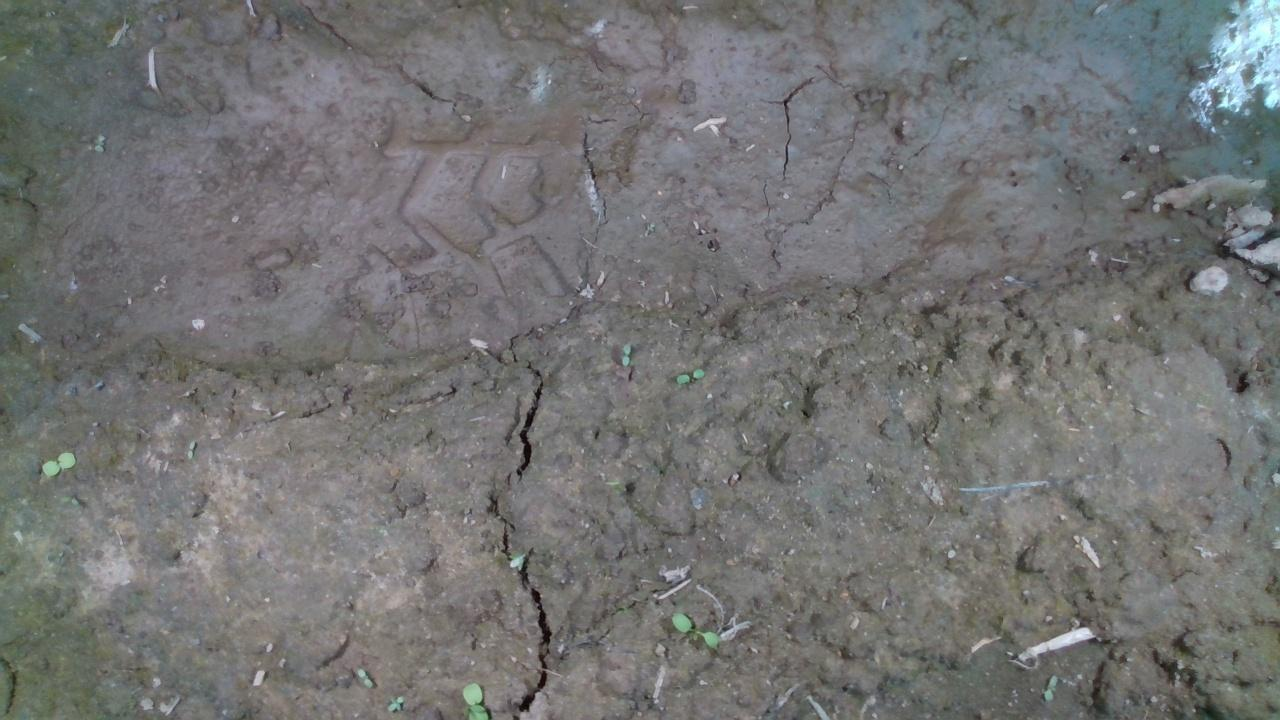weed: (667, 360, 719, 384), (174, 430, 208, 464), (613, 338, 633, 366)
